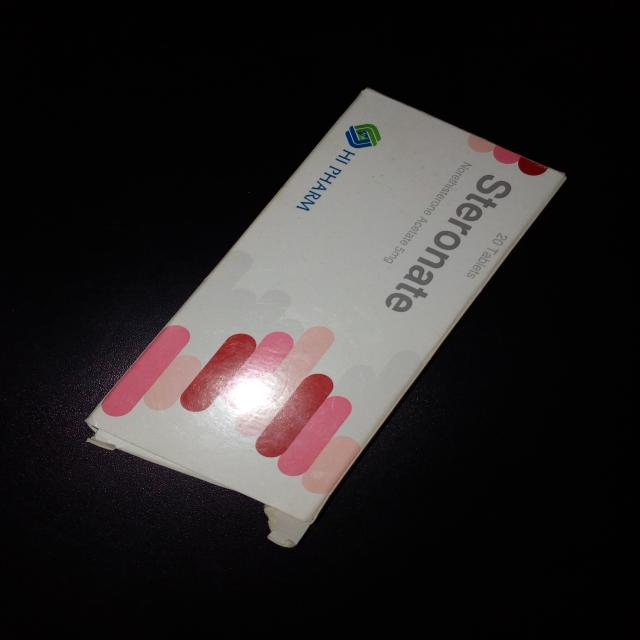Medicine: (88, 84, 566, 524)
